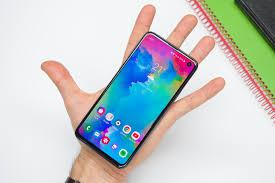Hand: (63, 3, 223, 176)
Smartphone: (80, 39, 186, 154)
